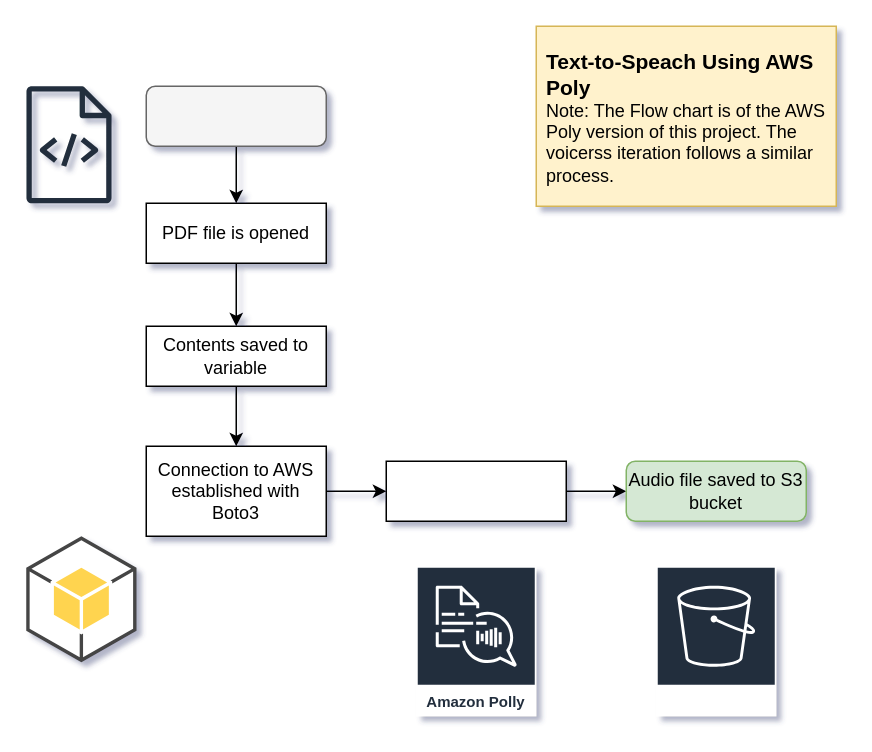
Image size: 872x752. Some labels were removed from this diagram. Each missing label, with the box of its shape:
Amazon S3: (655, 565, 776, 716)
AWS Poly converts text to audio file: (385, 460, 566, 521)
Script is started: (145, 85, 326, 146)
